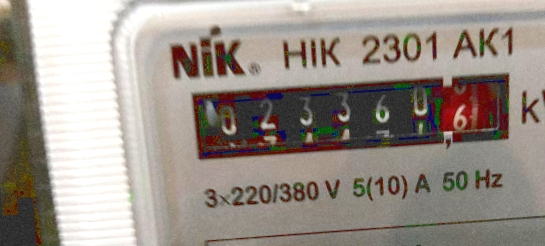0: (407, 81, 432, 118), (215, 100, 239, 136)
2: (255, 95, 278, 131)
3: (294, 92, 316, 128), (332, 88, 353, 124)
6: (369, 88, 392, 124), (448, 98, 469, 132)
screen: (176, 55, 534, 180)
